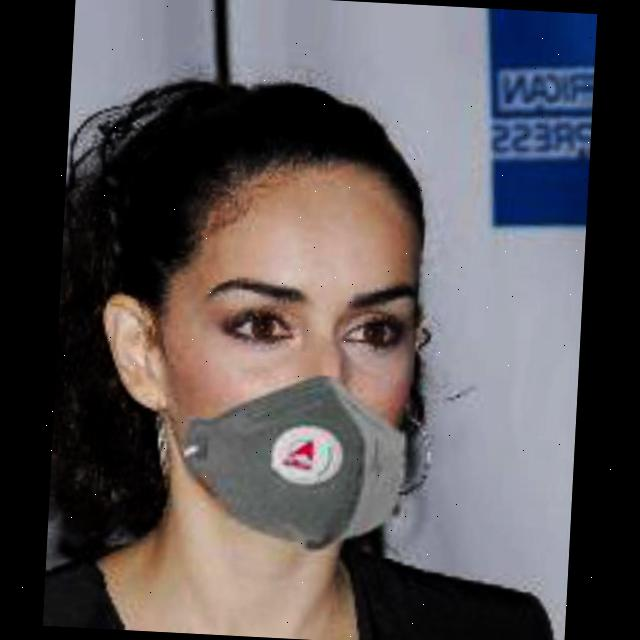suspicion: (98, 86, 476, 559)
